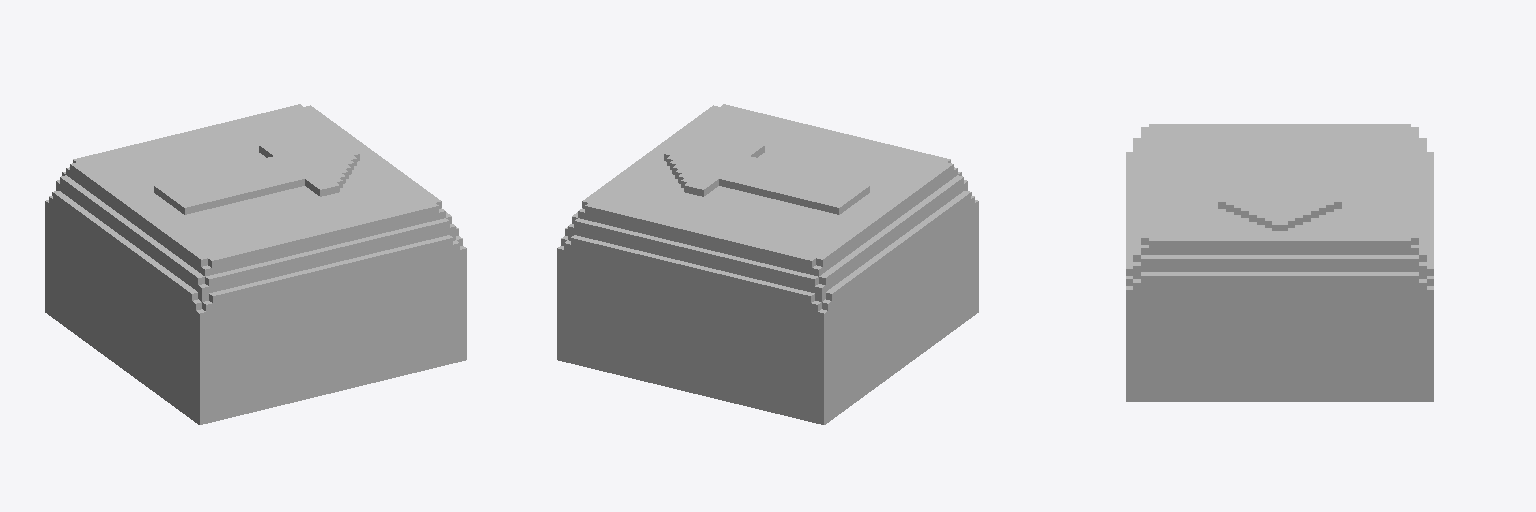
The model's file is key.vox.obj.
3 renders of one model, left to right at view 1: azimuth 30°, elevation 25°; view 2: azimuth 150°, elevation 25°; view 3: azimuth 270°, elevation 25°, orthographic.
Parts seen in each view (by area): view 1: object 1; view 2: object 1; view 3: object 1.
Boxes of the visible parts, <box> form: object 1: <box>45,104,466,424</box>; object 1: <box>557,104,978,424</box>; object 1: <box>1126,124,1433,401</box>.
Bounding box in the file's own units: 4 × 2.3 × 4.